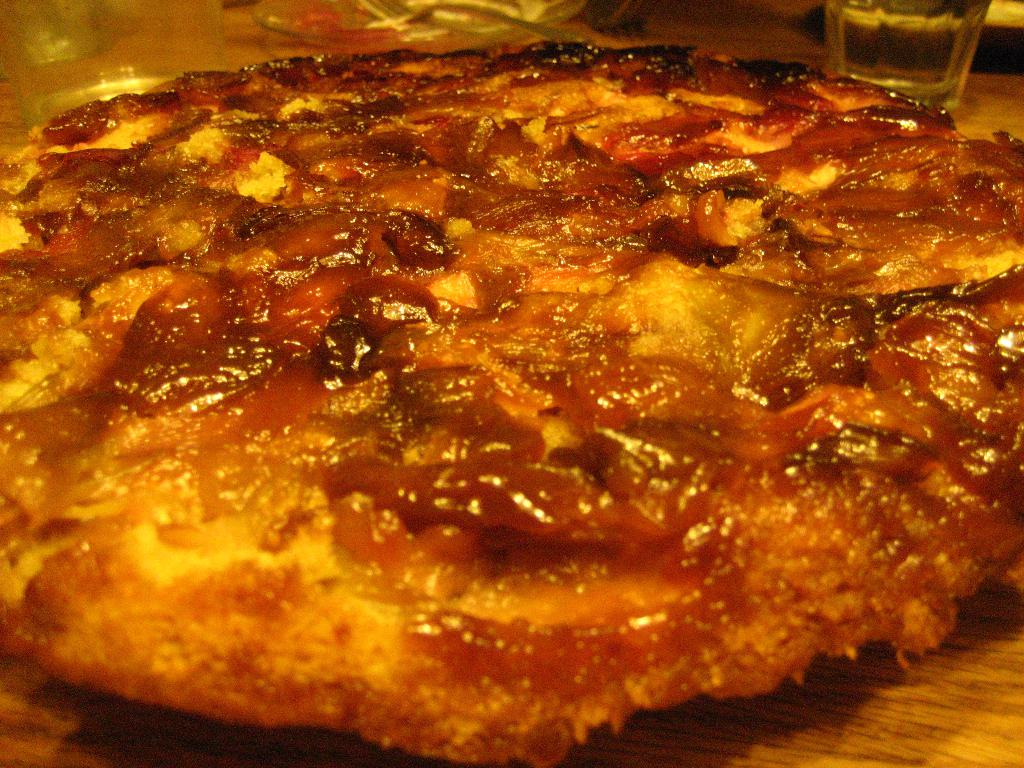Pizza: (0, 39, 1023, 767)
